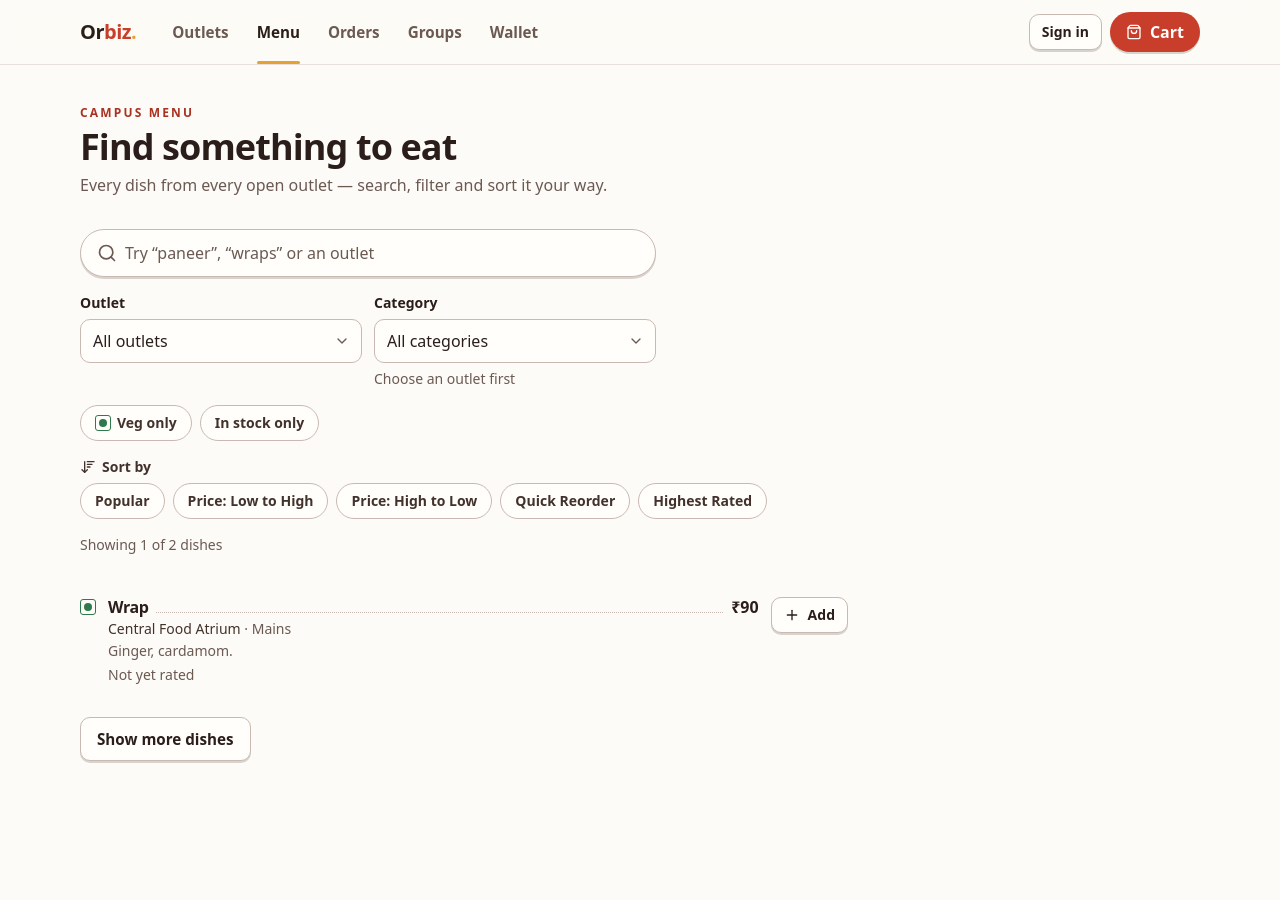
Test: campus menu › loads the next page on demand
Expected: the text "Showing 1 of 2 dishes" is shown, [80,535,222,554]
Click the button "Show more dishes".
click(165, 739)  # box [80,717,250,761]
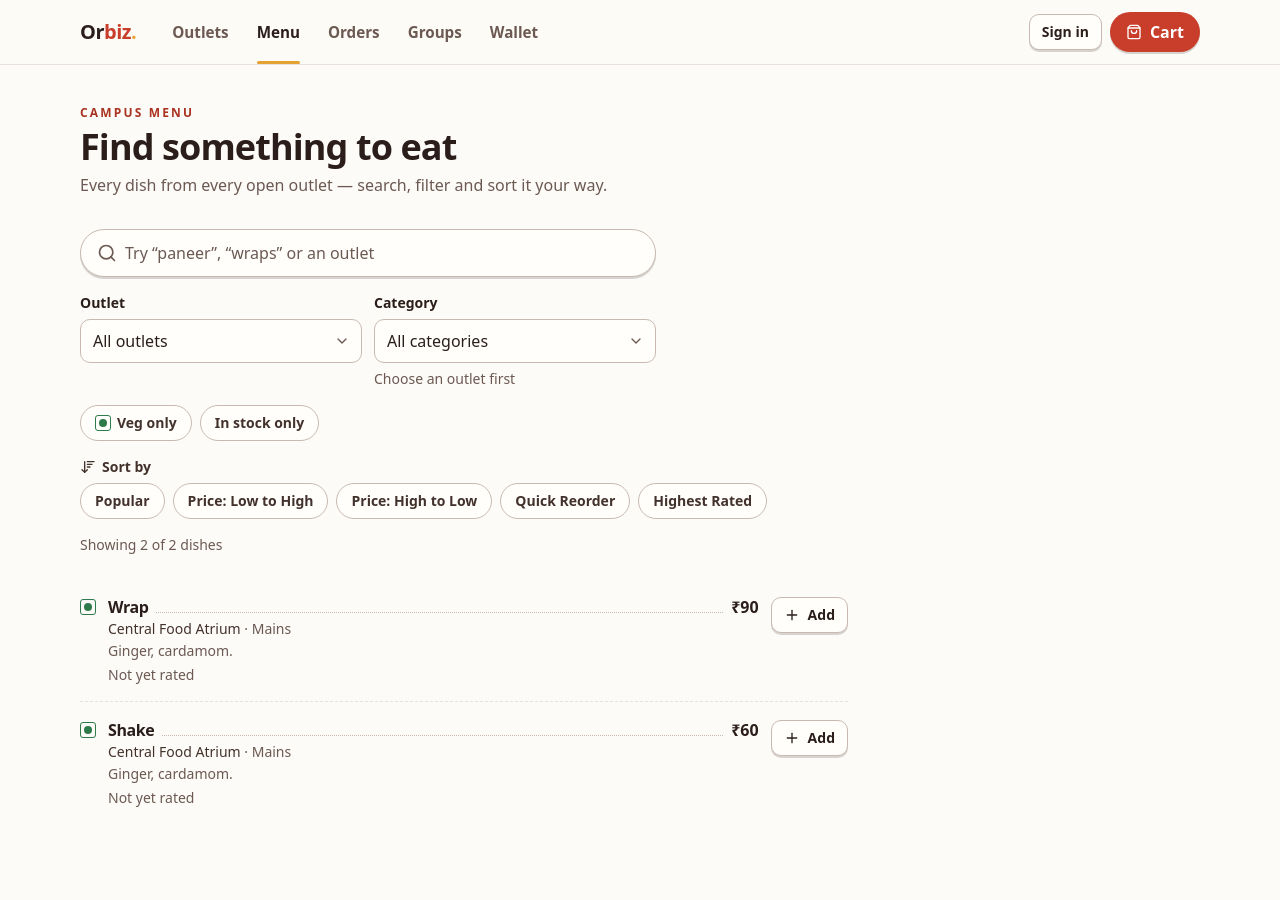
Now the link "Shake" is shown, box [108,719,154,741]
Now the text "Showing 2 of 2 dishes" is shown, box [80,535,222,554]
